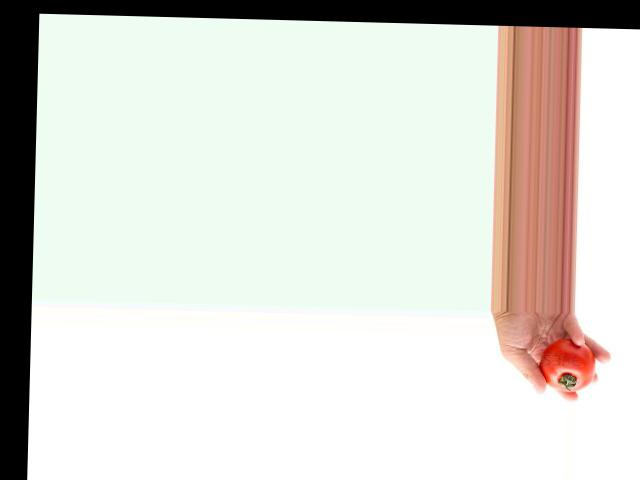tomato: (539, 338, 596, 392)
